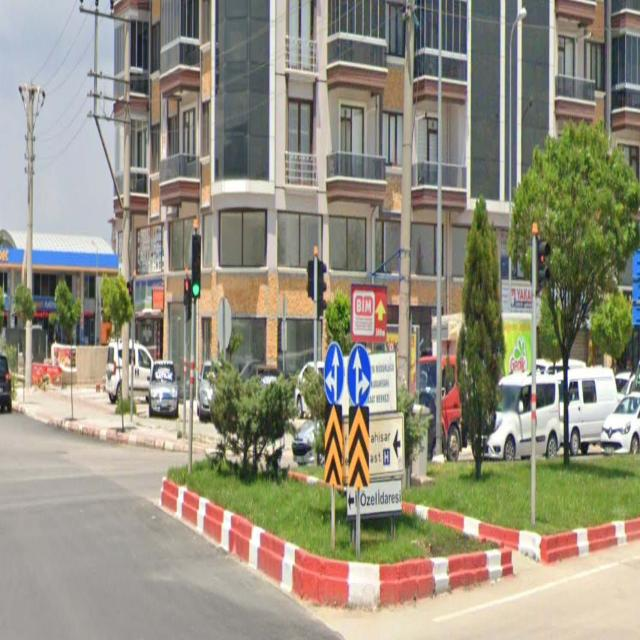ilerisag: (348, 345, 371, 407)
ilerisol: (324, 342, 342, 402)
yesil: (192, 234, 202, 298)
